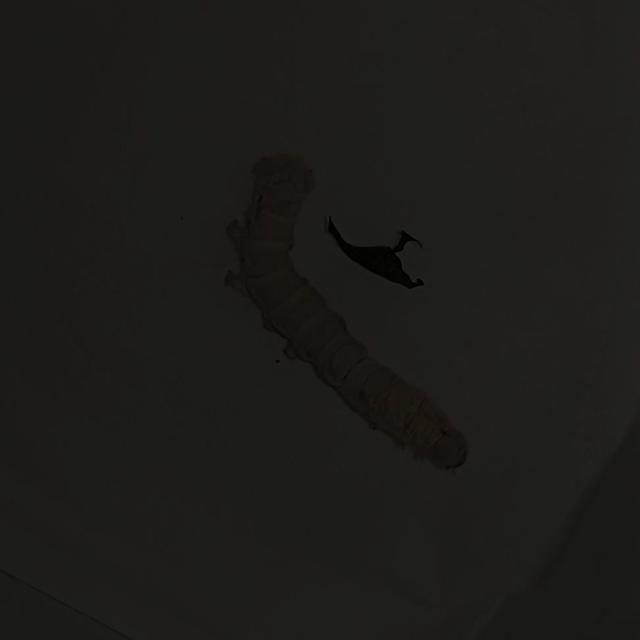Healthy: (212, 136, 497, 480)
